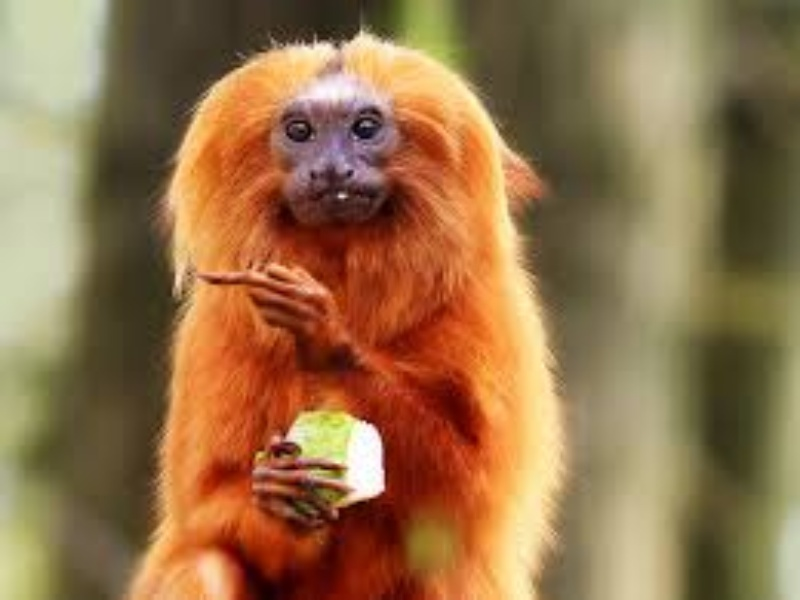monkey: (138, 33, 554, 594)
